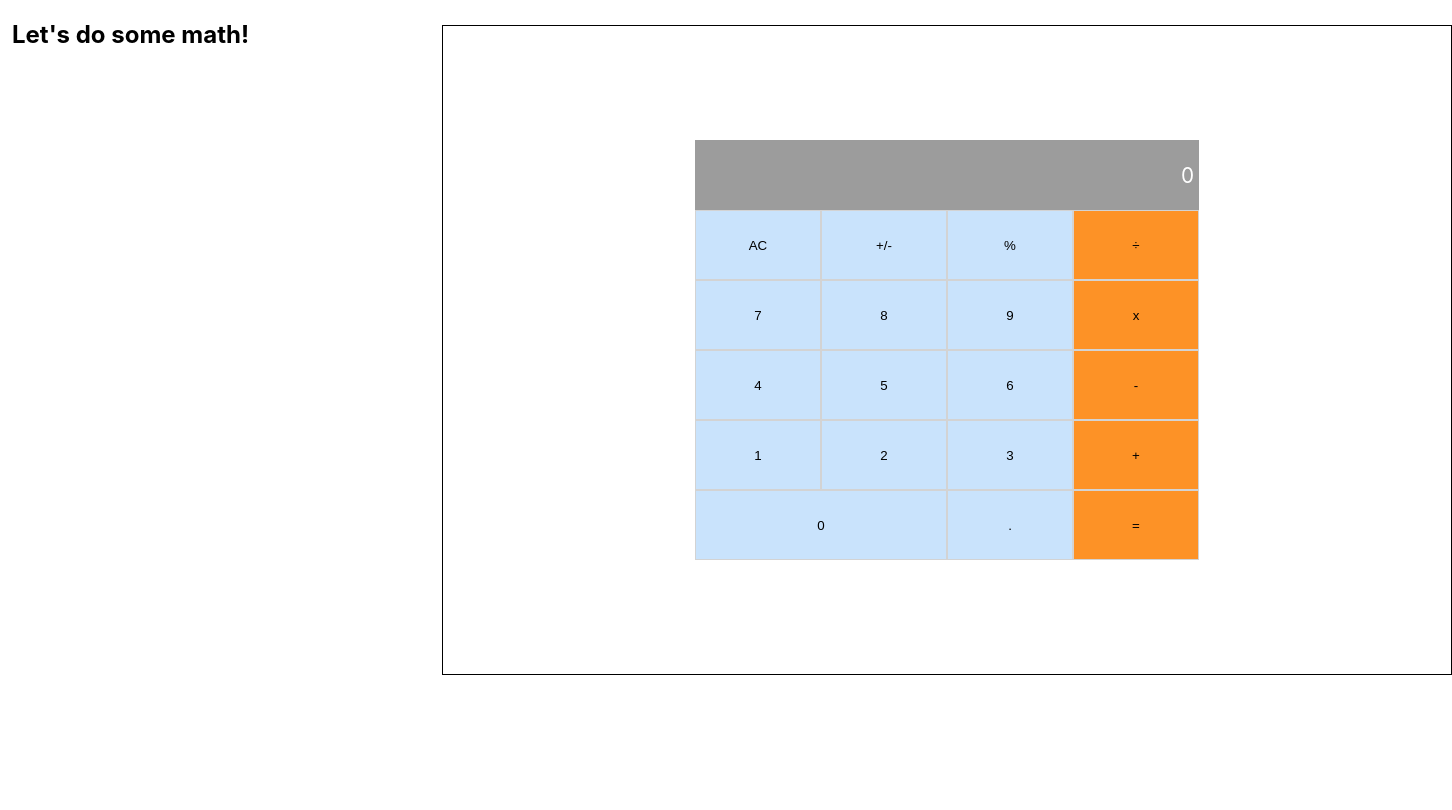
Test: The UI works properly and it's accesible › the user resets the calculator
The image size is (1452, 810).
Step 1. Click the button "3" → coordinates (1010, 455), box [947, 420, 1073, 490]
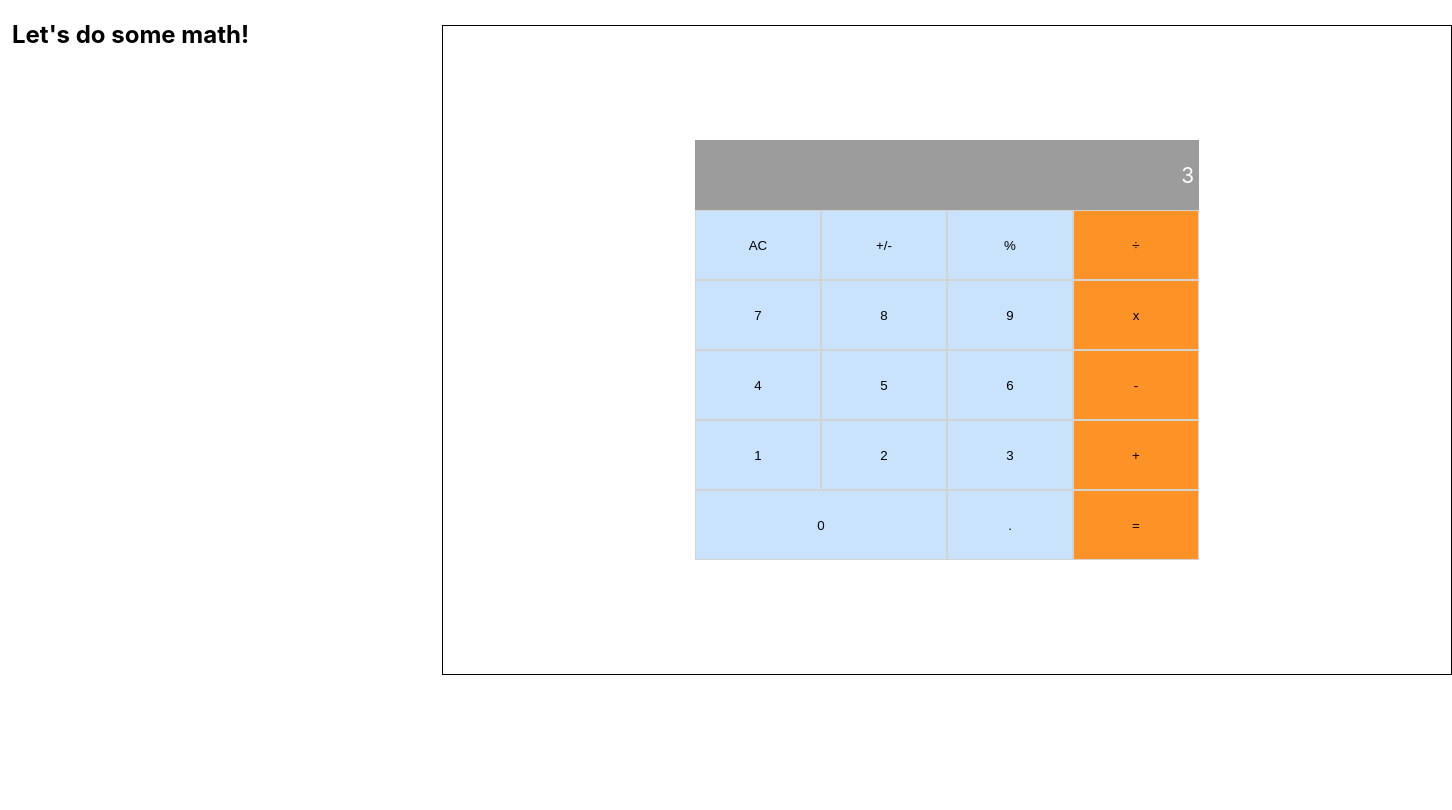
Step 2. Click the button "5" → coordinates (884, 385), box [821, 350, 947, 420]
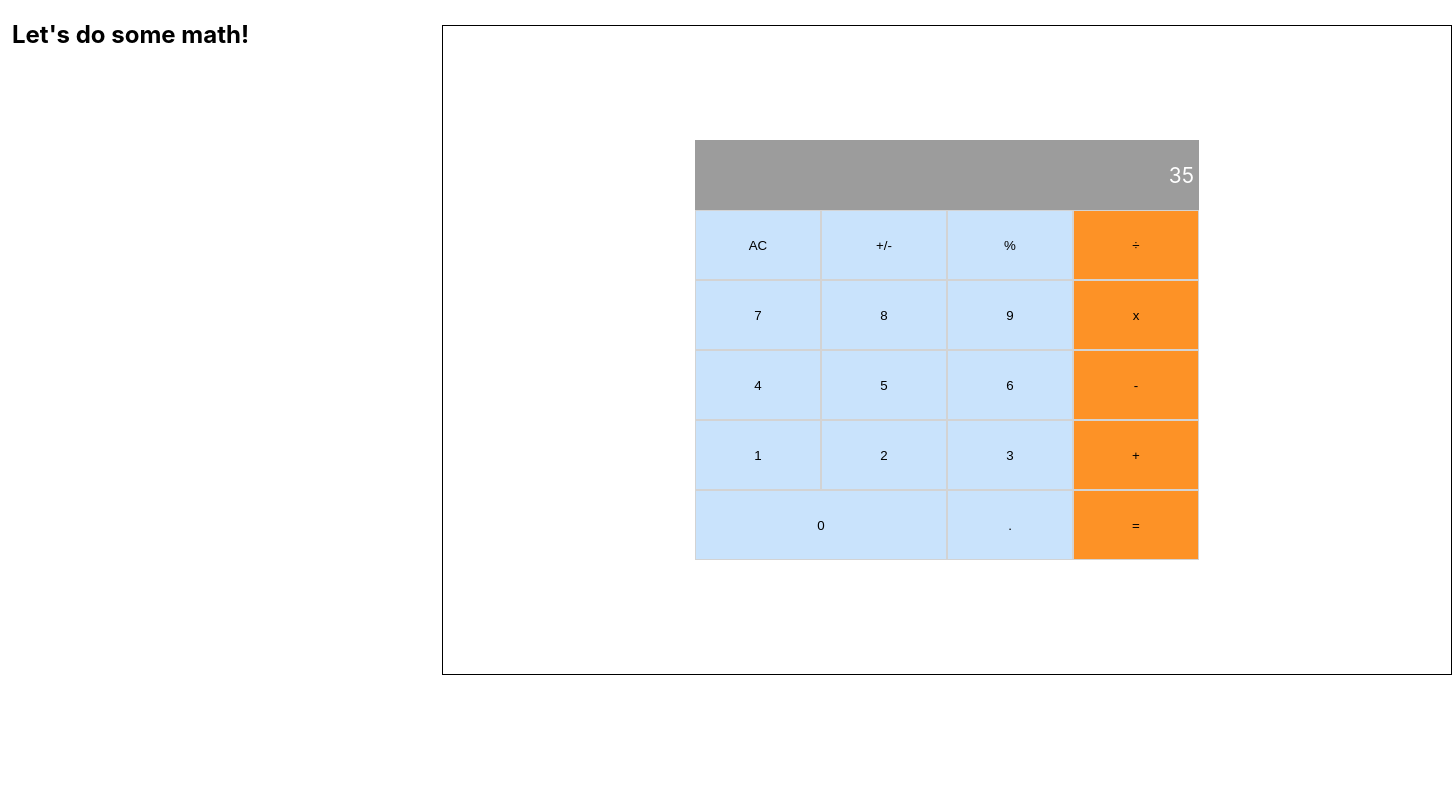
Step 3. Click the button "9" → coordinates (1010, 315), box [947, 280, 1073, 350]
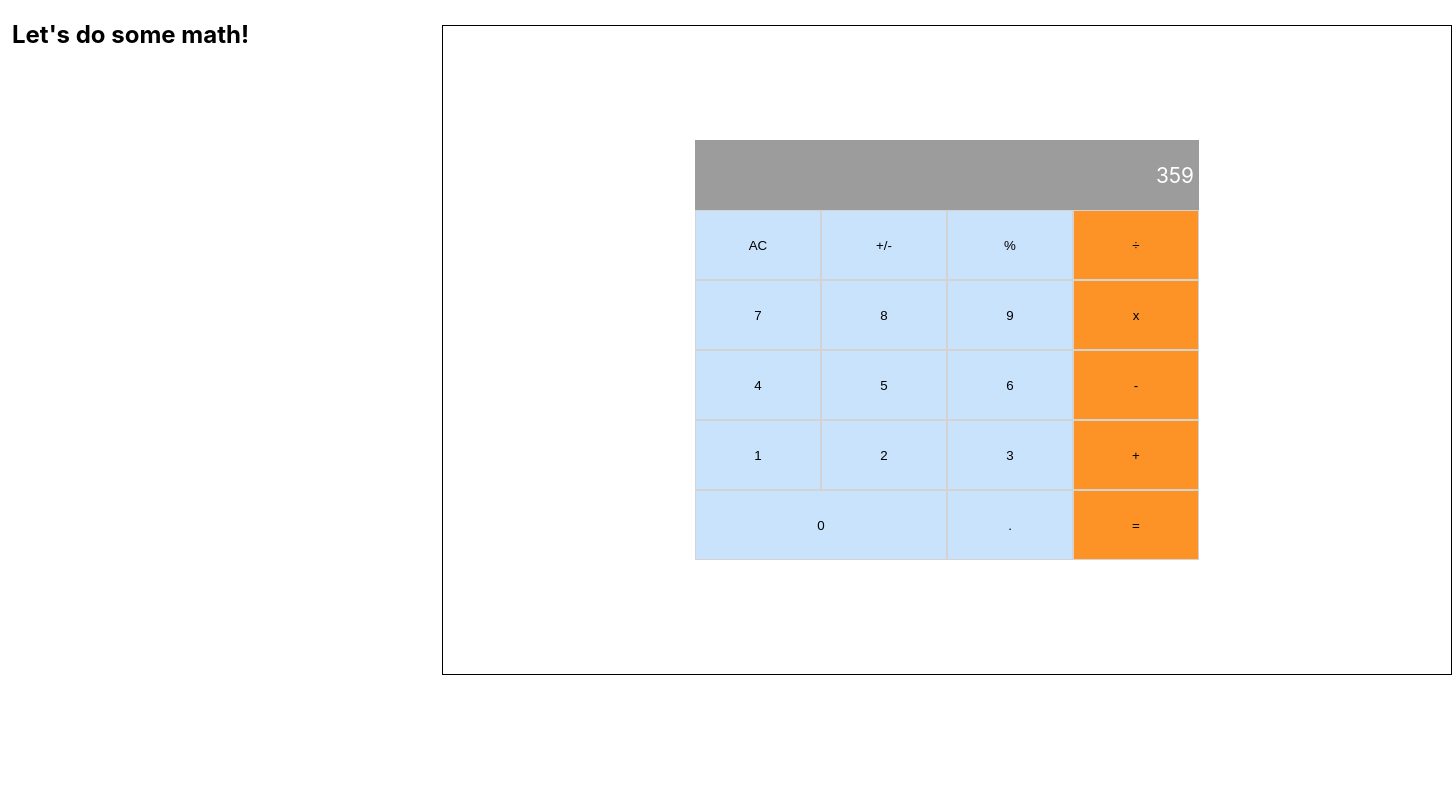
Step 4. Click the button "AC" → coordinates (758, 245), box [695, 210, 821, 280]
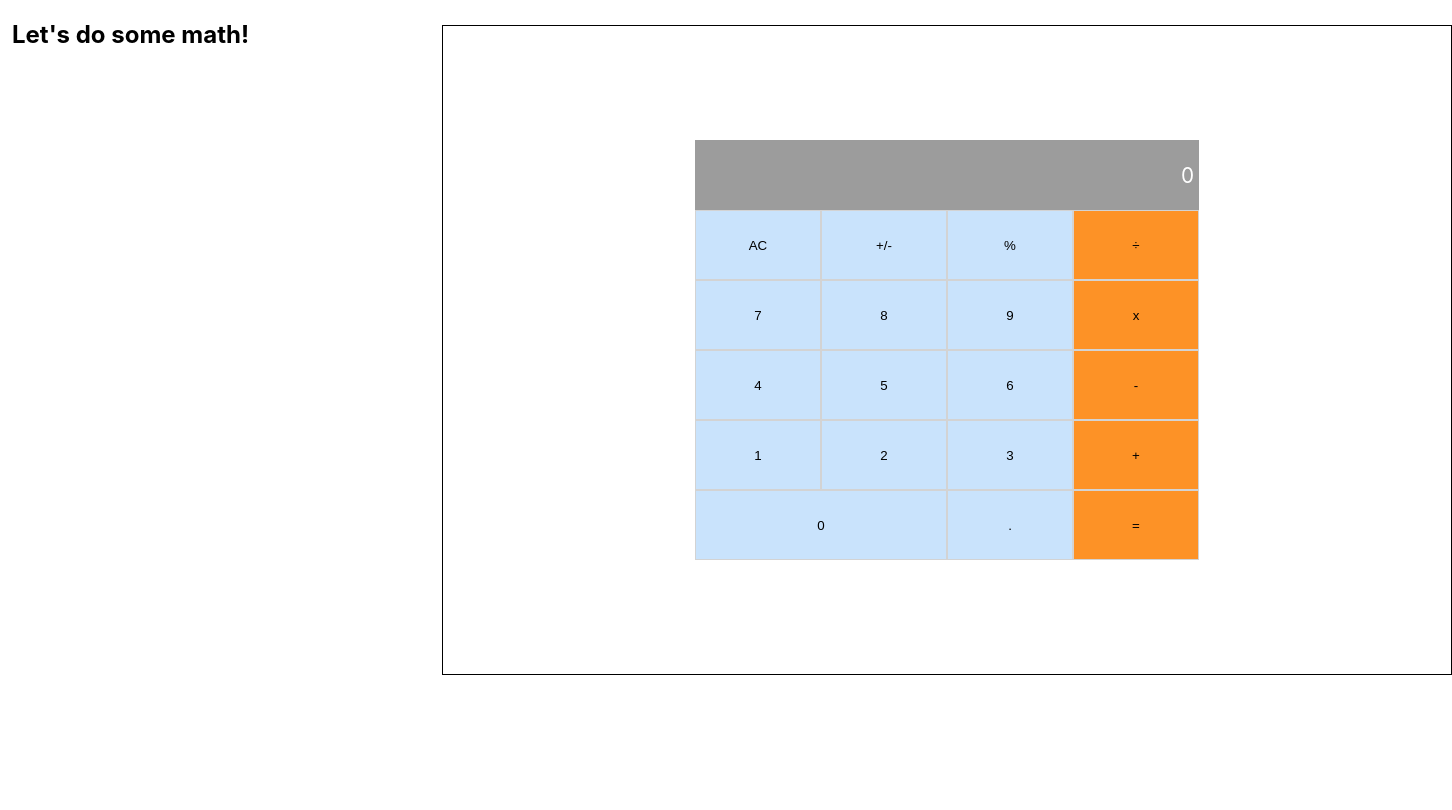
Check: the field reads "0", box [1181, 162, 1194, 188]
